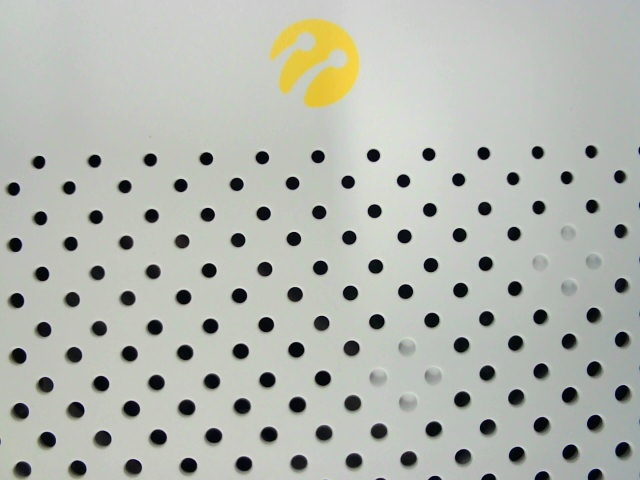AV_H3600Yellow: (251, 10, 370, 112)
